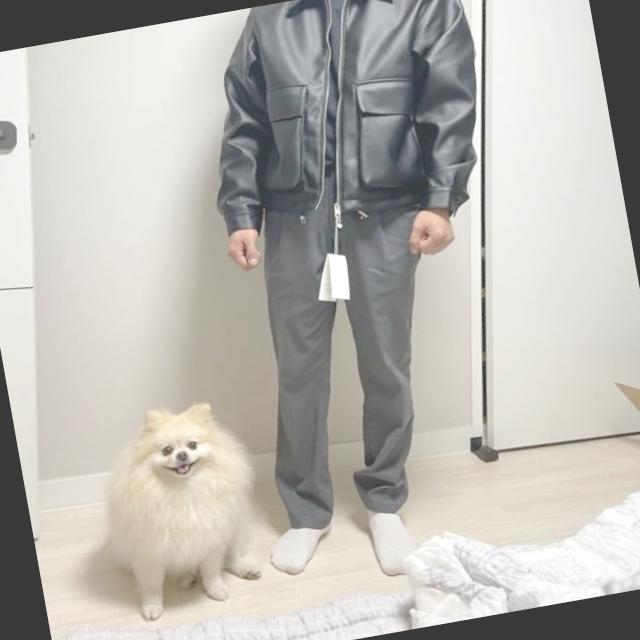jacket: (184, 0, 499, 250)
slacks: (224, 159, 464, 535)
